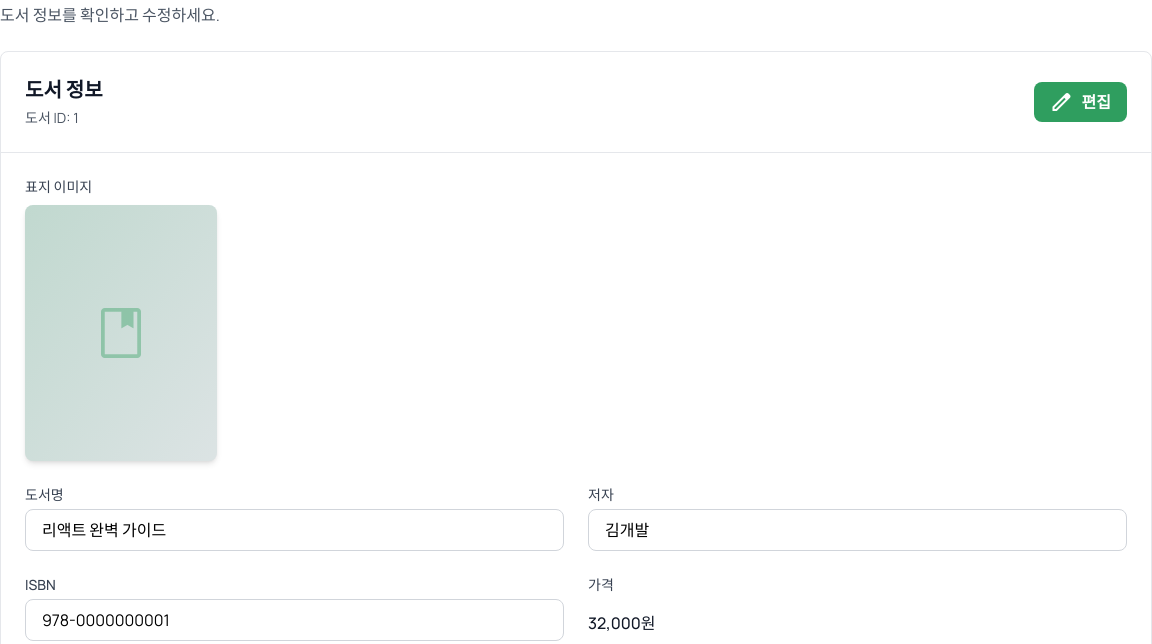
Test: BookDetail (Admin) › ABD-04: 편집 취소 › 취소 버튼 클릭 시 원본 데이터로 복원된다
Check: the field showing "리액트 완벽 가이드" below "도서명" is shown, box [25,509,564,551]
// 편집 모드 진입
Click the button "편집".
click(1080, 102)  # box [1034,82,1127,122]
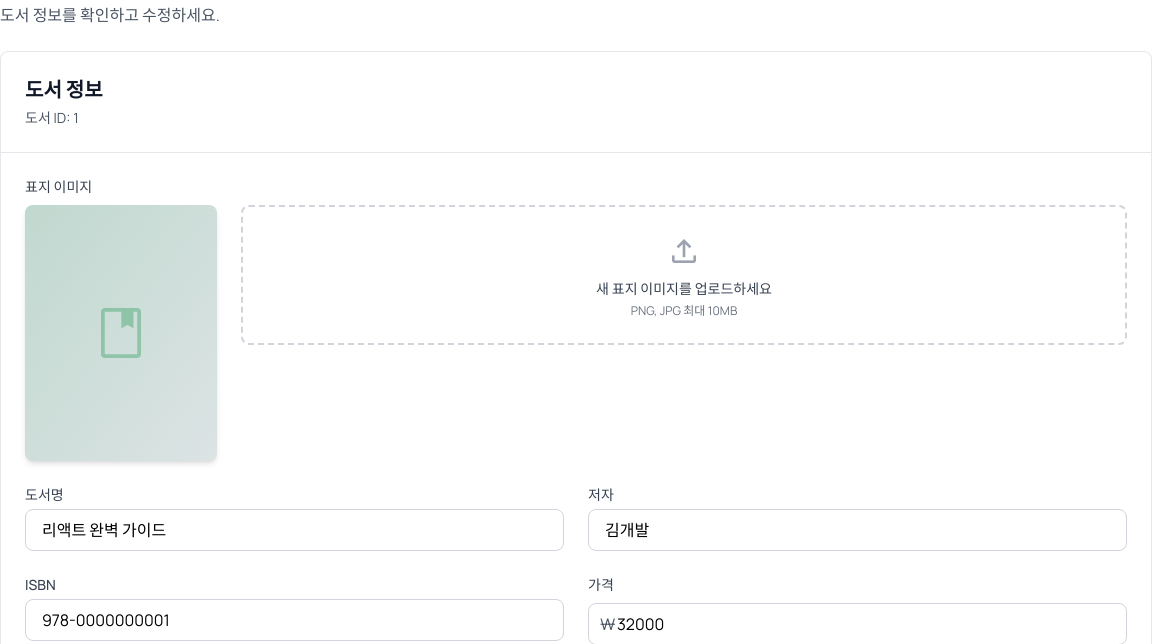
Replace the text in the field showing "리액트 완벽 가이드" below "도서명" with "임시 제목" at (294, 530), box [25,509,564,551]
(page scrolled)
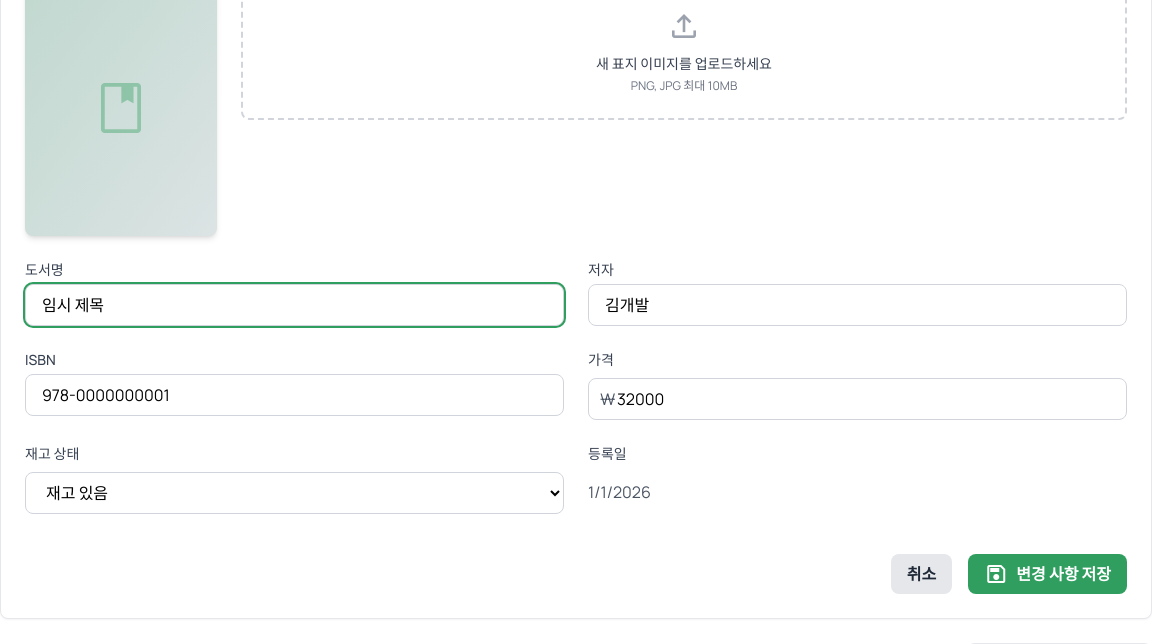
Click the button "취소".
click(922, 574)  # box [891,554,952,594]
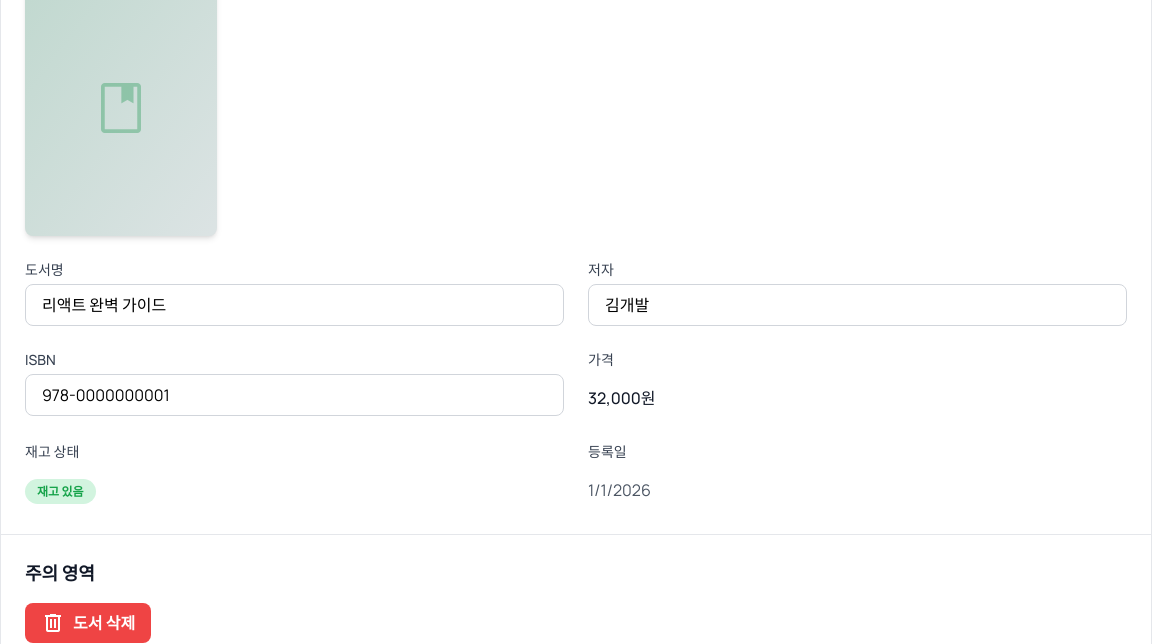
Check: the field showing "리액트 완벽 가이드" below "도서명" is shown, box [25,284,564,326]
